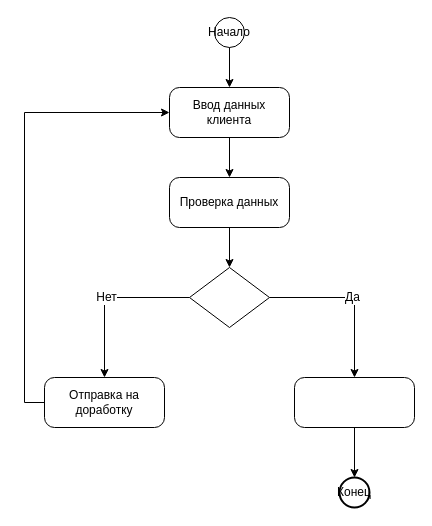
Image size: 432x526. Some labels were removed from this diagram. The shapes that lost their labels are listed below. From the top down, each one's centre as x and y in pixels, then its label:
At point 229,297: "Данные корректны?".
At point 354,402: "Сохранение заявки".
